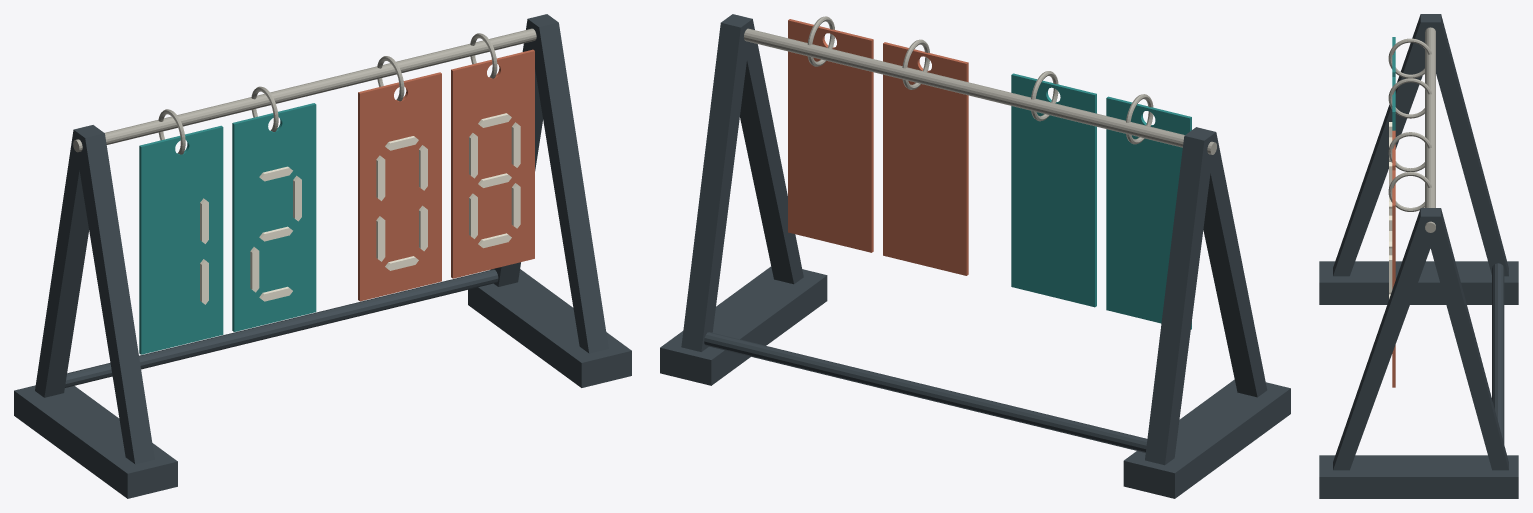
3 views of the same model, side by side, from view 1: azimuth 30°, elevation 25°; view 2: azimuth 150°, elevation 25°; view 3: azimuth 270°, elevation 25° (orthographic). The views are drawn at different scales.
Visible parts, largest first — view 1: Card_LeftTens, Frame_LeftA, Card_LeftOnes, Card_RightTens, Card_RightOnes, Frame_RightA, Foot_Left, Foot_Right, Tie_LowerRear, Axle_RearCrossbar; view 2: Frame_LeftA, Card_RightOnes, Card_LeftOnes, Card_RightTens, Frame_RightA, Card_LeftTens, Foot_Left, Foot_Right, Tie_LowerRear, Axle_RearCrossbar; view 3: Frame_RightA, Frame_LeftA, Foot_Right, Foot_Left, Tie_LowerRear, Axle_RearCrossbar, Card_RightOnes, Ring_LeftOnes, Ring_LeftTens, Ring_RightTens, Ring_RightOnes.
Part boxes in pixels (x1,y1,x2,y2): Card_LeftTens: (139, 125, 223, 354); Frame_LeftA: (35, 125, 154, 464); Card_LeftOnes: (232, 103, 316, 331); Card_RightTens: (358, 72, 441, 301); Card_RightOnes: (451, 49, 534, 278); Frame_RightA: (490, 14, 608, 353); Foot_Left: (14, 385, 177, 498); Foot_Right: (468, 269, 631, 387); Tie_LowerRear: (65, 269, 498, 387); Axle_RearCrossbar: (73, 28, 536, 152); Frame_LeftA: (1145, 127, 1267, 465); Card_RightOnes: (788, 19, 873, 252); Card_LeftOnes: (1011, 73, 1096, 307); Card_RightTens: (883, 42, 968, 275); Frame_RightA: (681, 14, 803, 351); Card_LeftTens: (1106, 96, 1191, 329); Foot_Left: (1123, 379, 1290, 498); Foot_Right: (660, 266, 827, 385); Tie_LowerRear: (704, 332, 1147, 452); Axle_RearCrossbar: (744, 28, 1216, 154); Frame_RightA: (1333, 208, 1508, 470); Frame_LeftA: (1333, 14, 1508, 276); Foot_Right: (1319, 455, 1518, 498); Foot_Left: (1319, 261, 1518, 304); Tie_LowerRear: (1492, 263, 1504, 443); Axle_RearCrossbar: (1425, 27, 1435, 232); Card_RightOnes: (1392, 170, 1395, 387); Ring_LeftOnes: (1388, 78, 1431, 118); Ring_LeftTens: (1388, 38, 1431, 78); Ring_RightTens: (1388, 132, 1431, 171); Ring_RightOnes: (1388, 172, 1431, 211).
Size of the model in its own units: 0.922 by 0.57 by 0.36.
